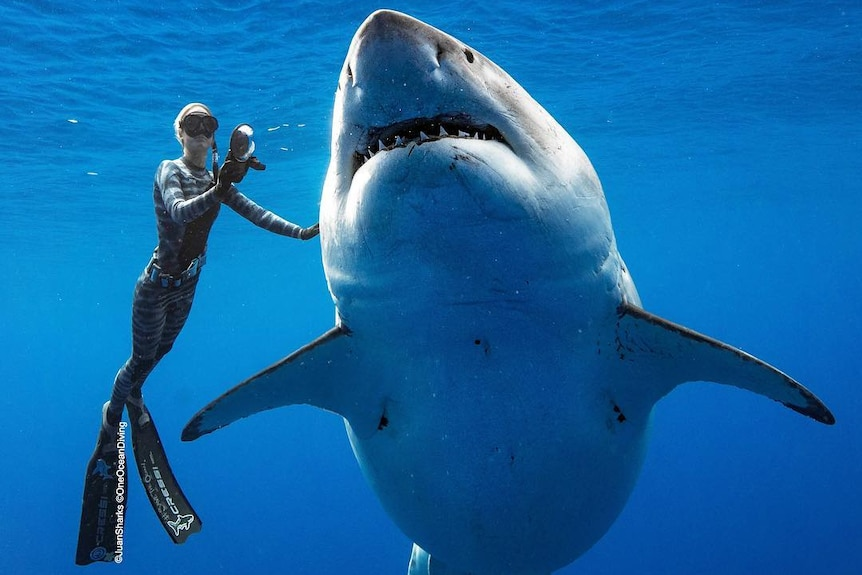shark: (217, 2, 828, 575)
